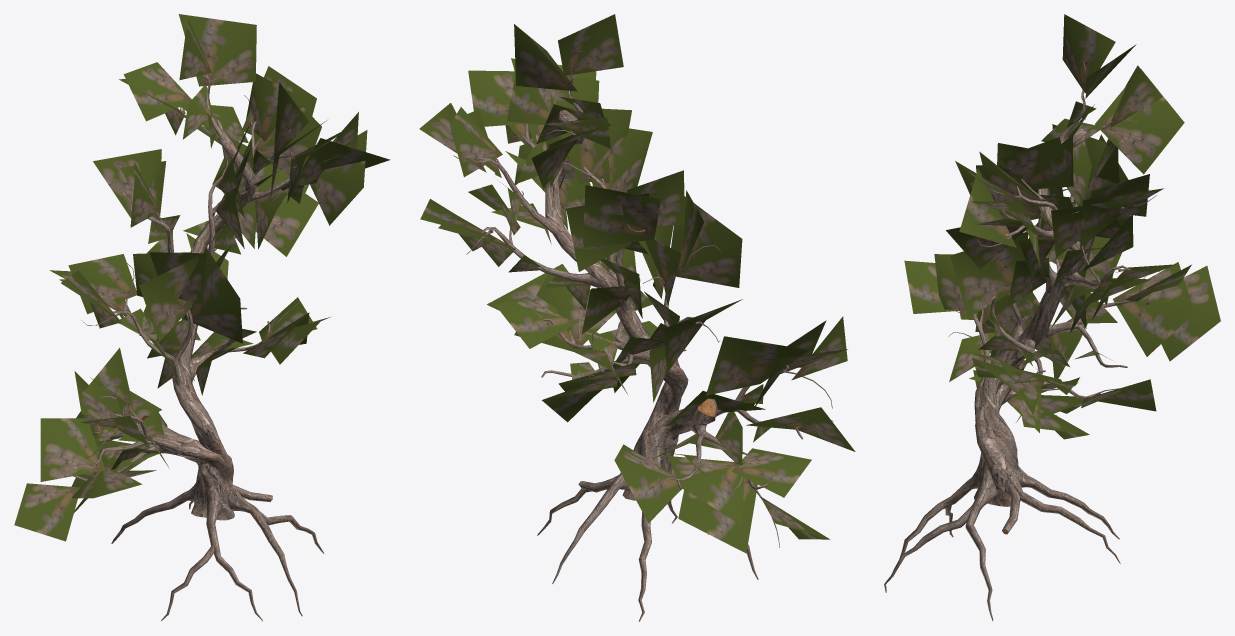
The model's file is tree_old_01.glb.
3 renders of one model, left to right at view 1: azimuth 30°, elevation 25°; view 2: azimuth 150°, elevation 25°; view 3: azimuth 270°, elevation 25°, orthographic. The views are drawn at different scales.
Parts seen in each view (by area): view 1: Tree_0_Tree_0Mat_0; view 2: Tree_0_Tree_0Mat_0; view 3: Tree_0_Tree_0Mat_0.
Part boxes in pixels (bbox=[...]): Tree_0_Tree_0Mat_0: bbox=[14, 14, 390, 621]; Tree_0_Tree_0Mat_0: bbox=[419, 14, 855, 621]; Tree_0_Tree_0Mat_0: bbox=[884, 14, 1220, 621].
Size of the model in its own units: 5.99 by 9 by 4.88.
Materials: 3 (3 with a texture image).
